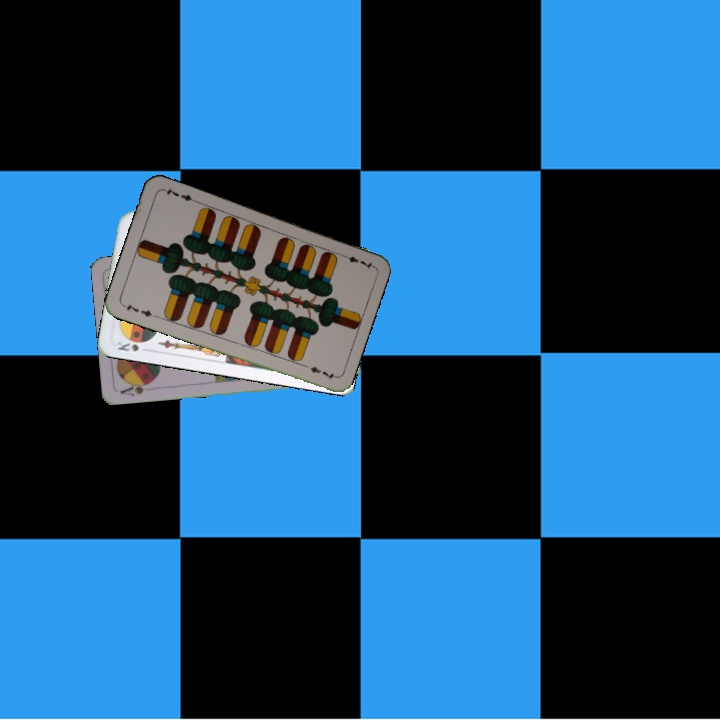E7: (336, 250, 375, 272), (119, 299, 159, 320)
SA: (116, 377, 156, 399)
SK: (112, 338, 141, 354)
